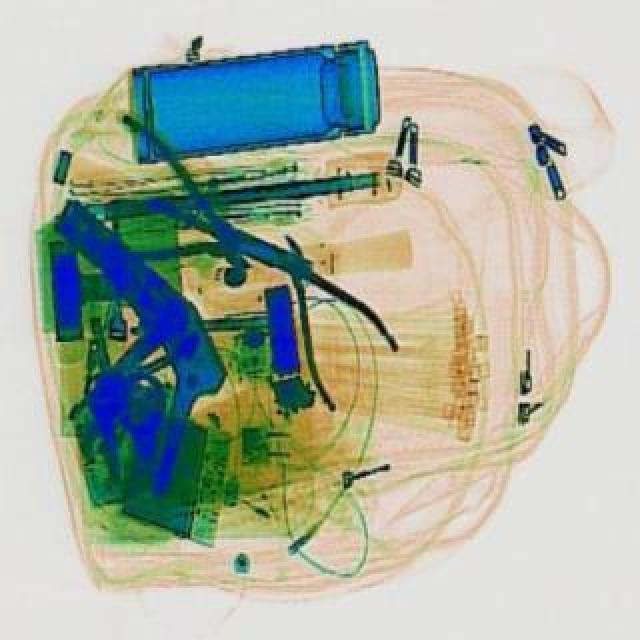wrench: (48, 116, 296, 328), (240, 224, 418, 418)
